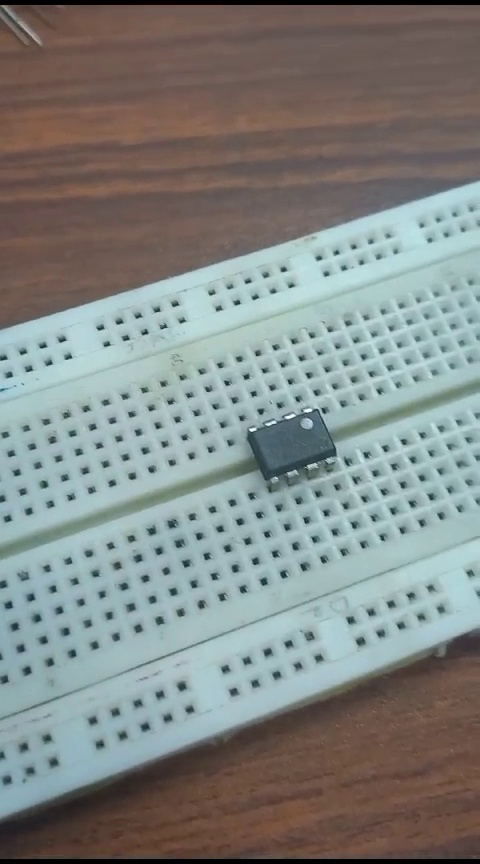IC: (246, 407, 361, 491)
